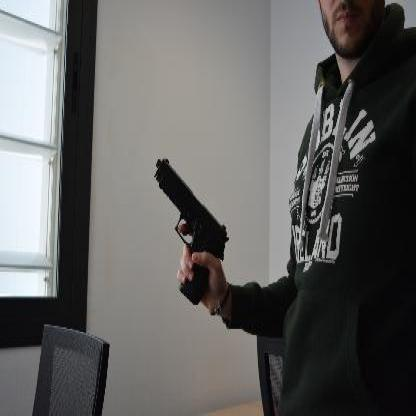pistol: (153, 156, 229, 305)
